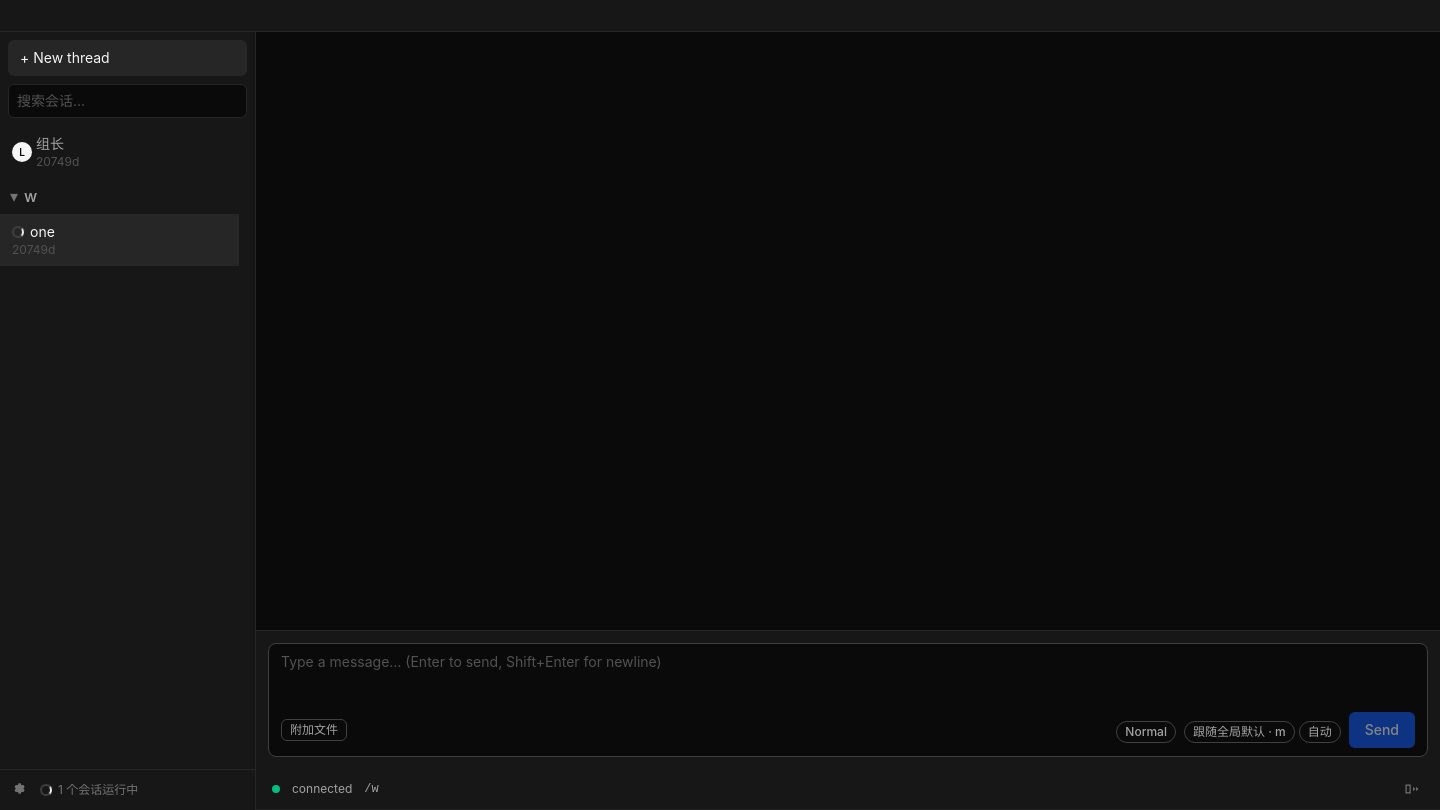
App send recovery from a status disagreement › does not ping-pong when both methods fail, and surfaces the error
In the text box: [848, 678] box [269,644,1427,712], type "doomed"
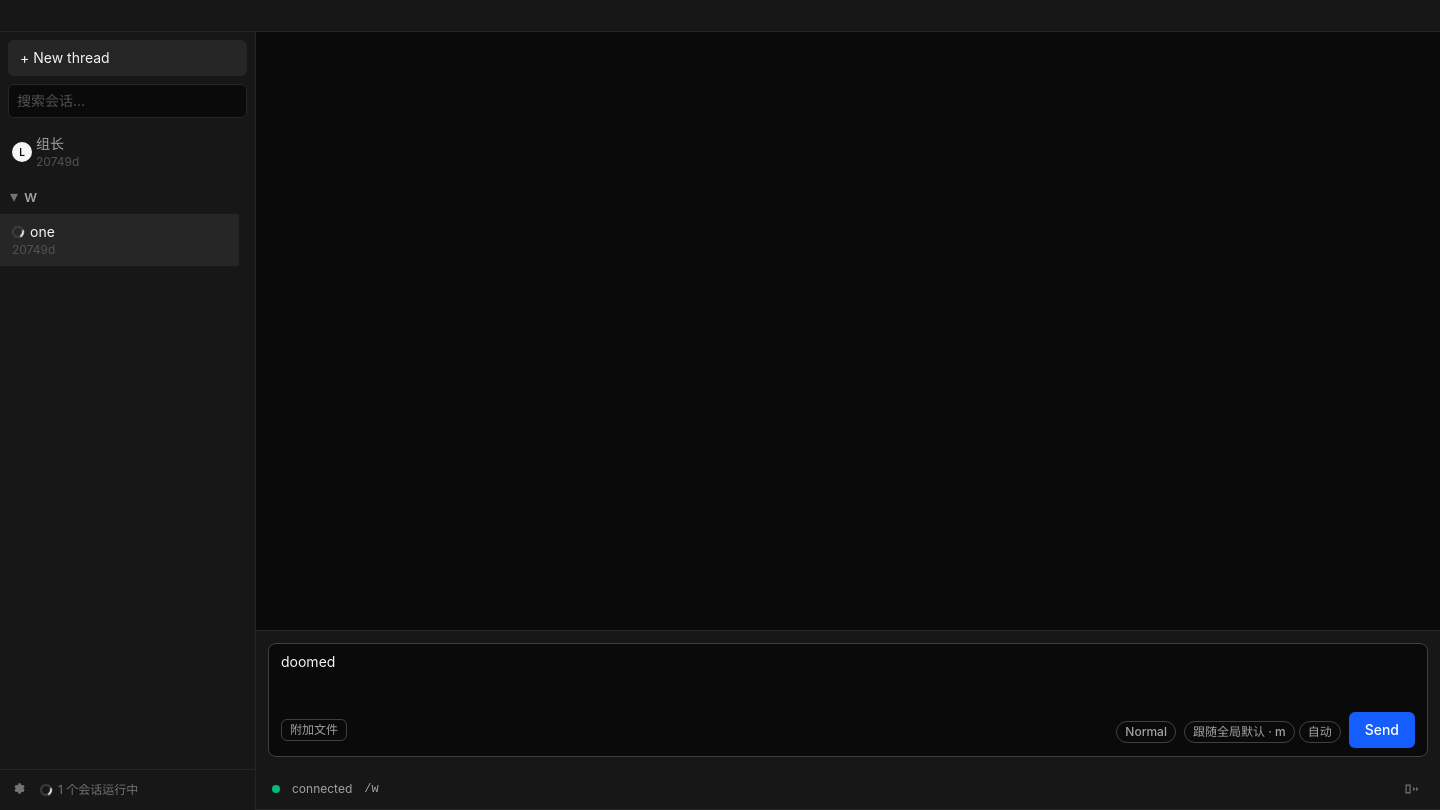
Click the button "Send": [1382, 730] box [1349,712,1415,748]
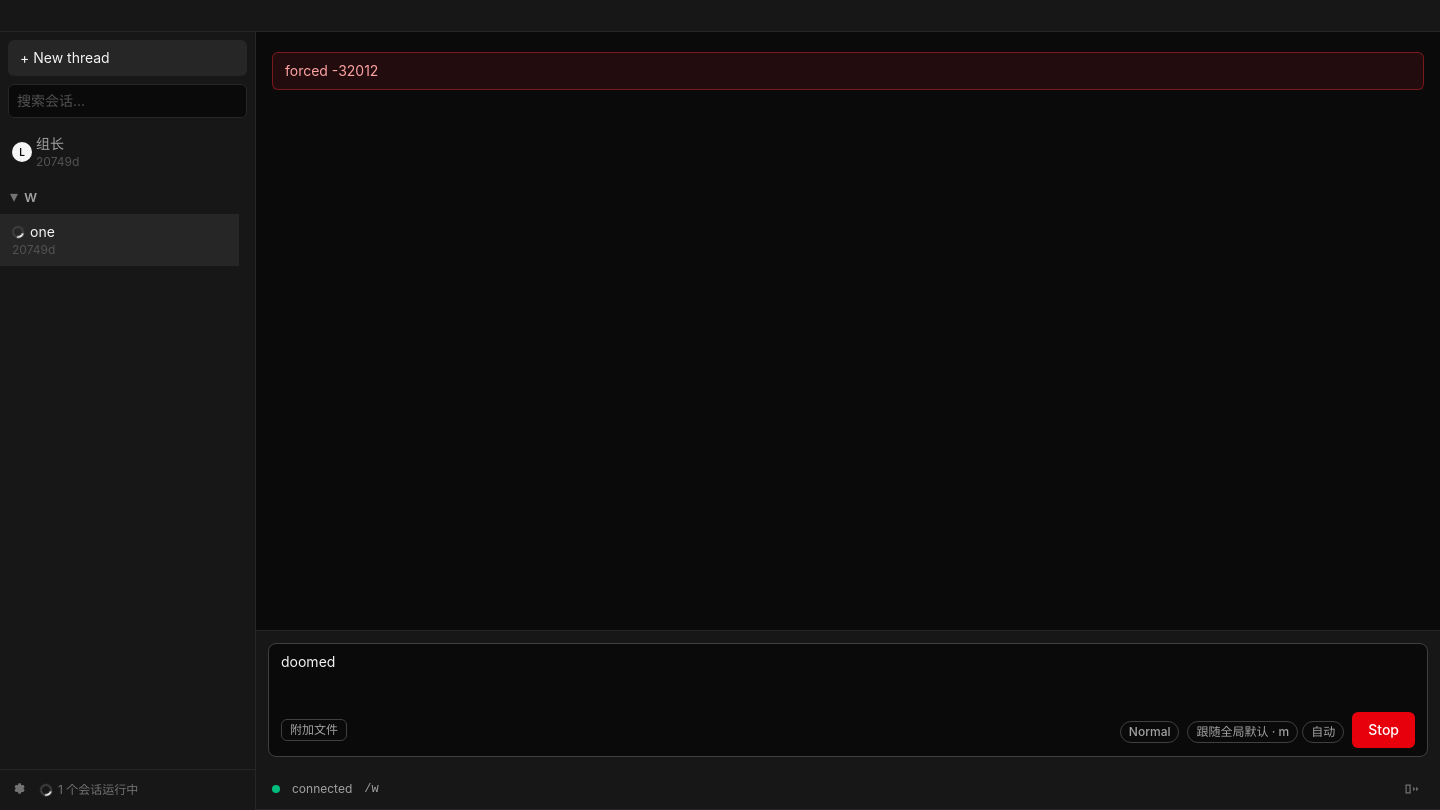
Expected: the text "forced -32012" is shown, [272,52,1424,90]
